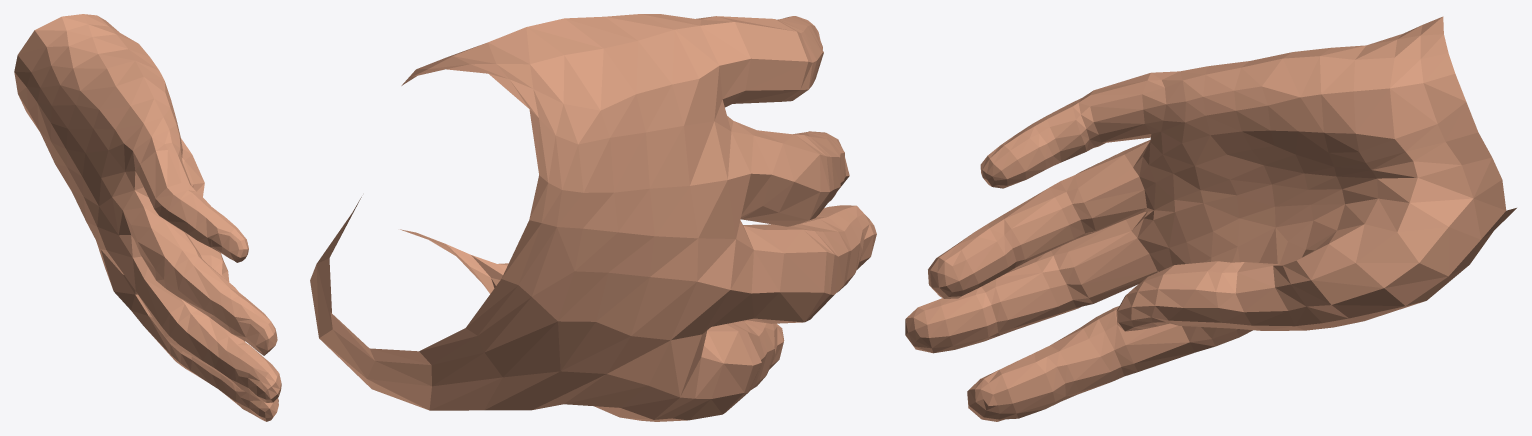
Rendered from frame_057.glb.
3 renders of one model, left to right at view 1: azimuth 30°, elevation 25°; view 2: azimuth 150°, elevation 25°; view 3: azimuth 270°, elevation 25°, orthographic. The views are drawn at different scales.
Visible parts, largest first — view 1: world; view 2: world; view 3: world.
Part boxes in pixels (box(x1,y1,x2,y2)): world: box(14, 14, 281, 421); world: box(310, 14, 876, 421); world: box(905, 16, 1516, 421).
Bounding box in the file's own units: 0.0588 × 0.1113 × 0.1614.
